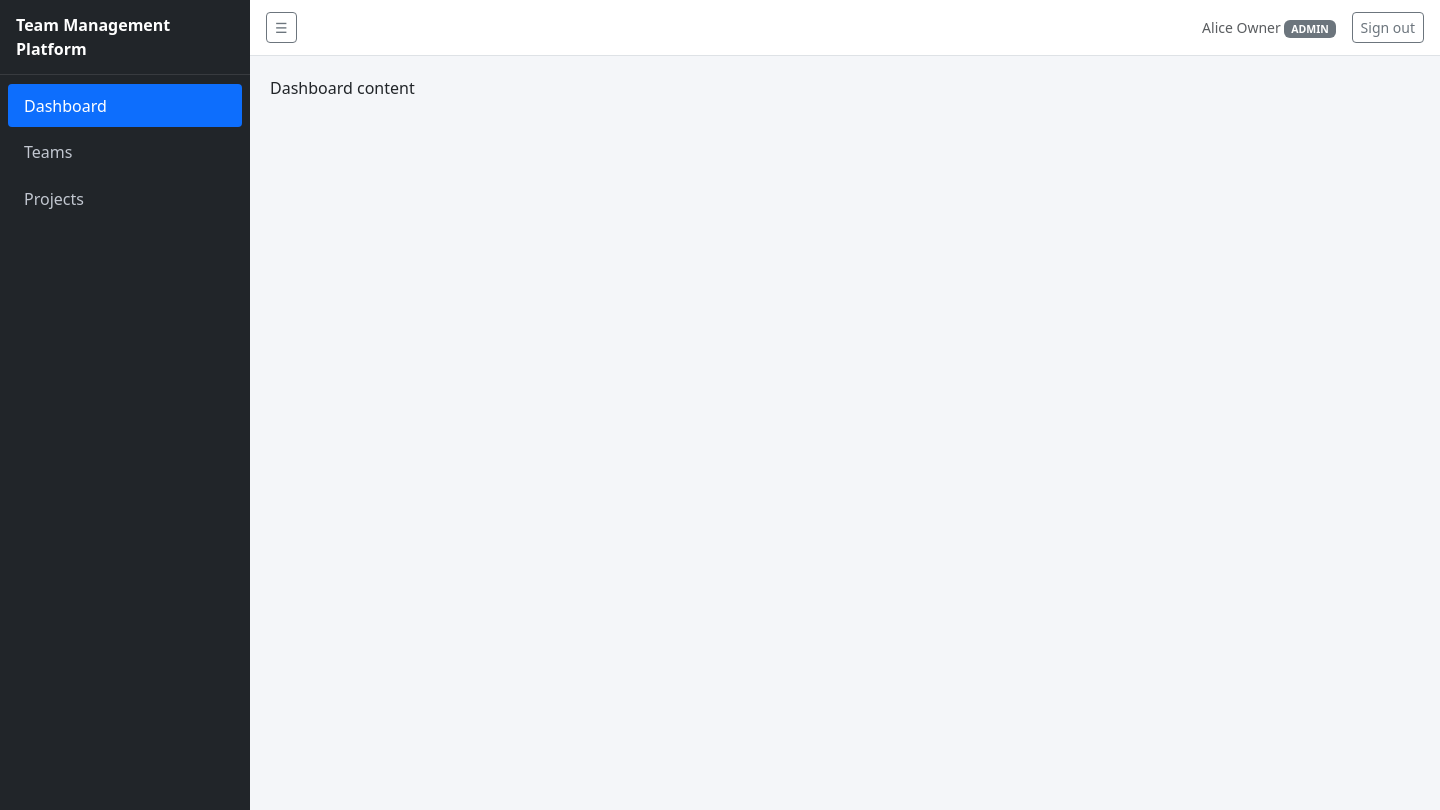
Test: Shell mobile sidebar behavior › closes automatically when a nav link is clicked, after navigating
The width and height of the screenshot is (1440, 810).
Check: the text "Dashboard content" is shown, box [270,77,415,99]
Click the button named "Toggle navigation menu": x=281, y=28 [266,12,297,43]
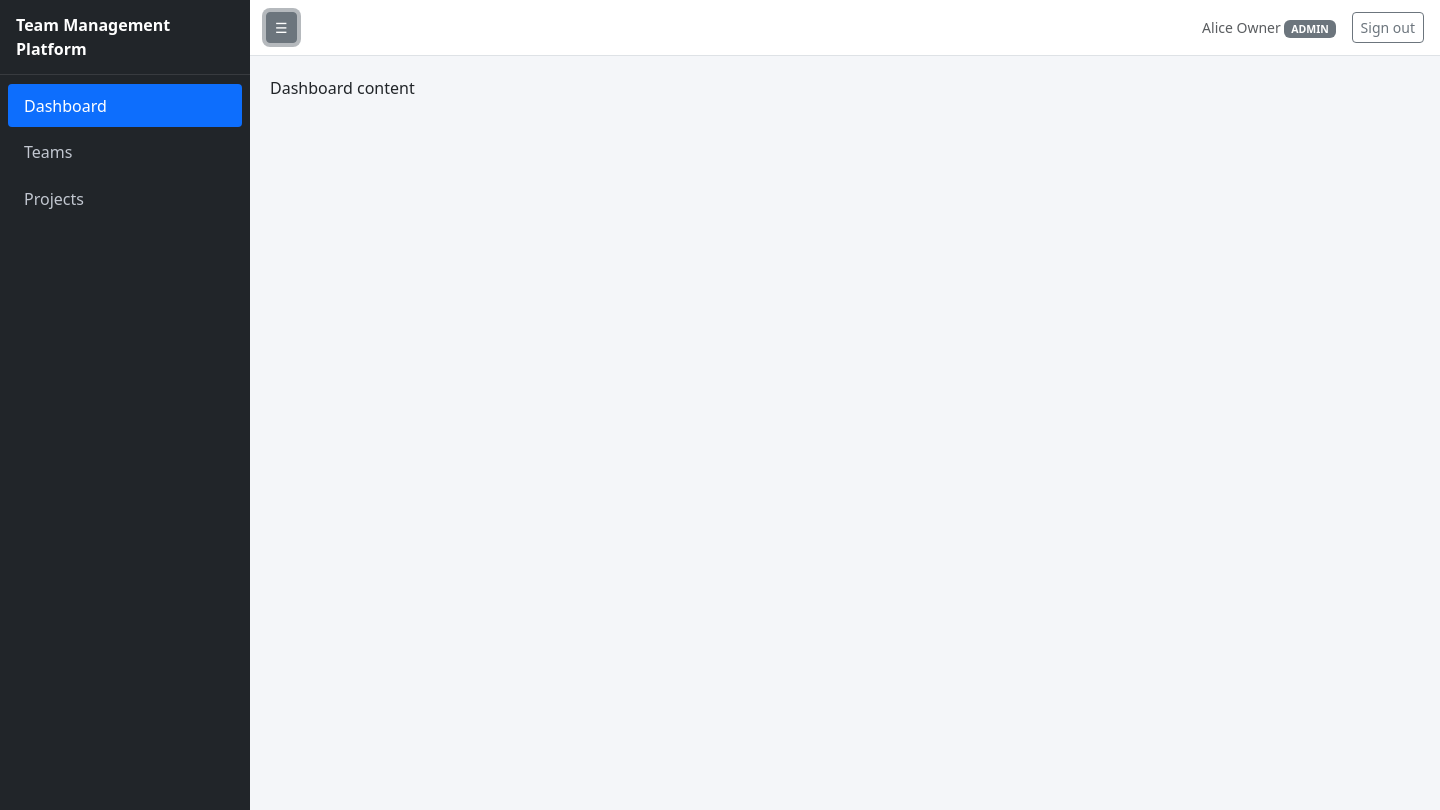
Click the link "Teams": x=48, y=152 [24,141,72,163]
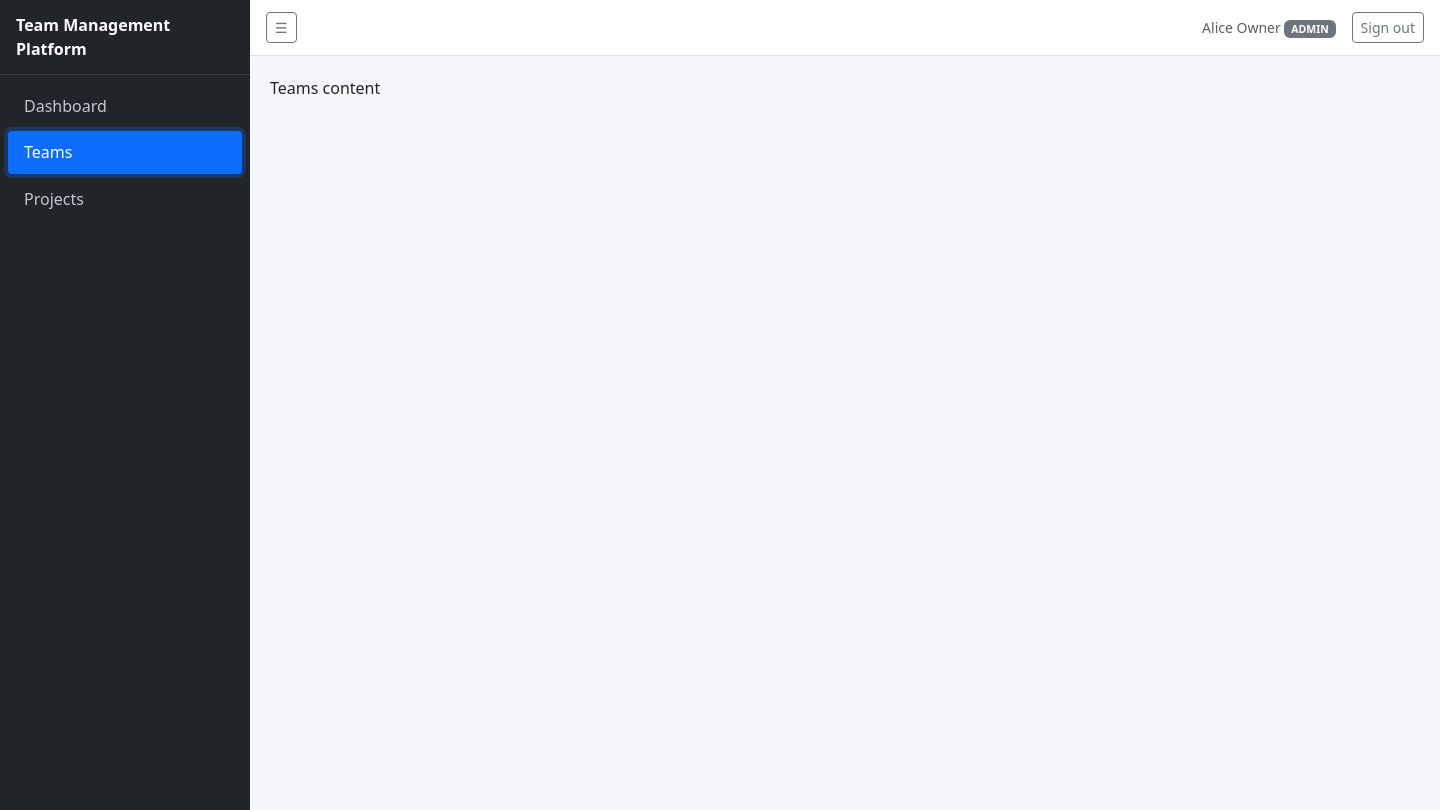
Check: the text "Teams content" is shown, box [270,77,380,99]
